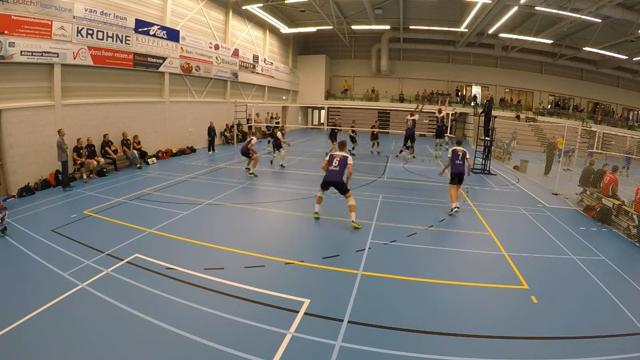attacco: (444, 102, 459, 150)
muro: (393, 97, 420, 161), (430, 96, 450, 162)
